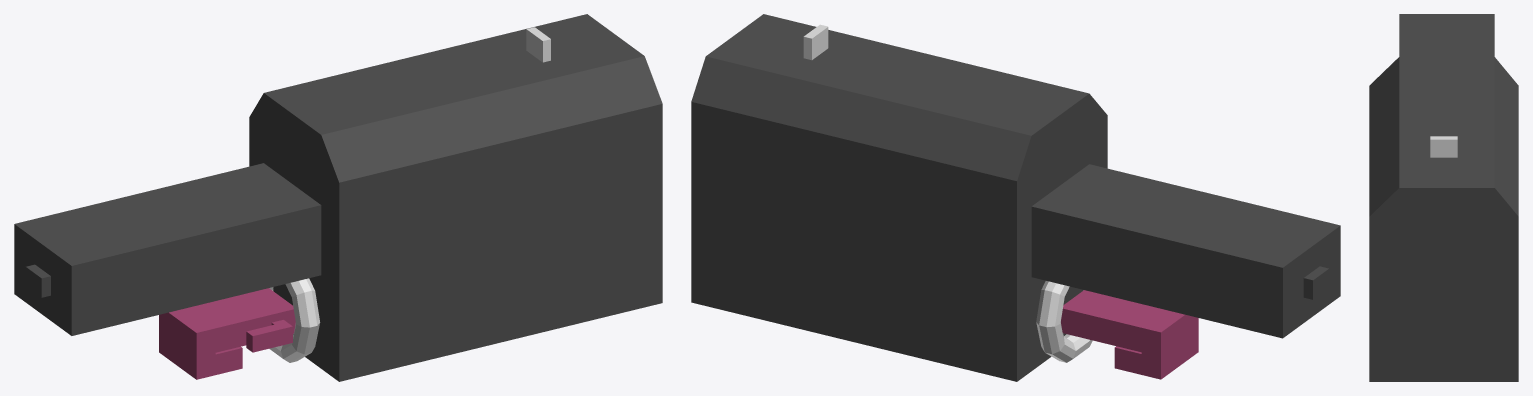
File: Gun.fbx
The picture shows the model from 3 angles, left to right: view 1: azimuth 30°, elevation 25°; view 2: azimuth 150°, elevation 25°; view 3: azimuth 270°, elevation 25°; orthographic projection. The views are drawn at different scales.
Parts seen in each view (by area): view 1: polySurface379; view 2: polySurface379; view 3: polySurface379.
Boxes of the visible parts, x1,y1,x2,y2 form: polySurface379: (14,14,662,381); polySurface379: (691,14,1340,381); polySurface379: (1369,14,1518,381).
Size of the model in its own units: 2.21 by 0.9406 by 0.5902.
